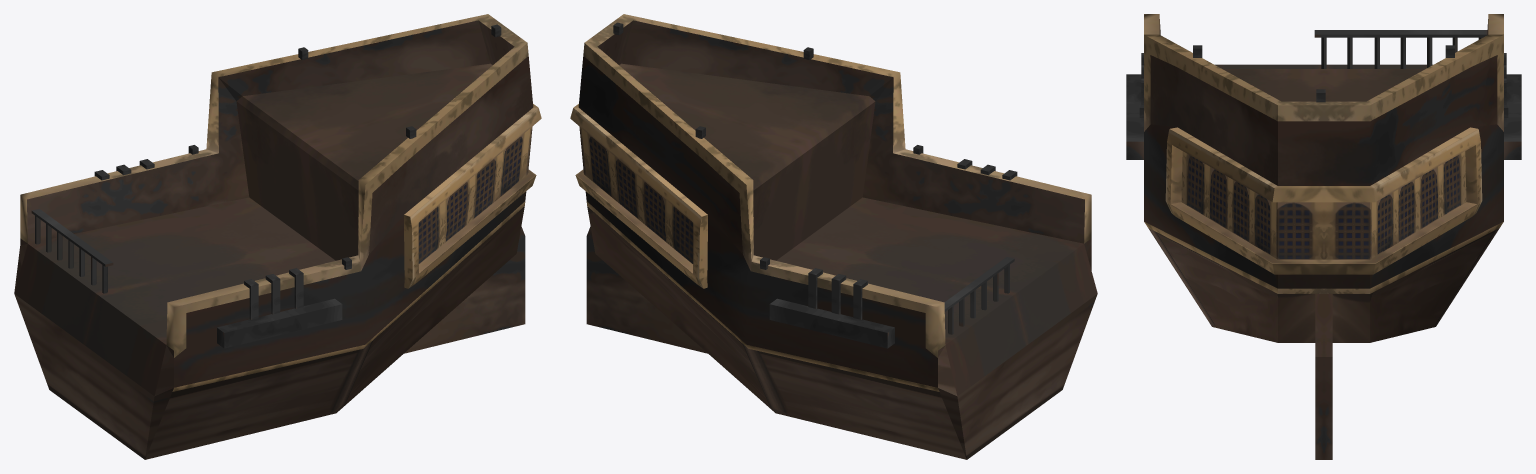
File: M_hune_4.fbx
3 renders of one model, left to right at view 1: azimuth 30°, elevation 25°; view 2: azimuth 150°, elevation 25°; view 3: azimuth 270°, elevation 25°, orthographic. The views are drawn at different scales.
Visible parts, largest first — view 1: polySurface335; view 2: polySurface335; view 3: polySurface335.
Part boxes in pixels (x1=…): polySurface335: x1=14, y1=14, x2=541, y2=459; polySurface335: x1=570, y1=14, x2=1097, y2=459; polySurface335: x1=1126, y1=14, x2=1521, y2=459.
Size of the model in its own units: 834 by 551 by 558.
1 material, 1 textured.
